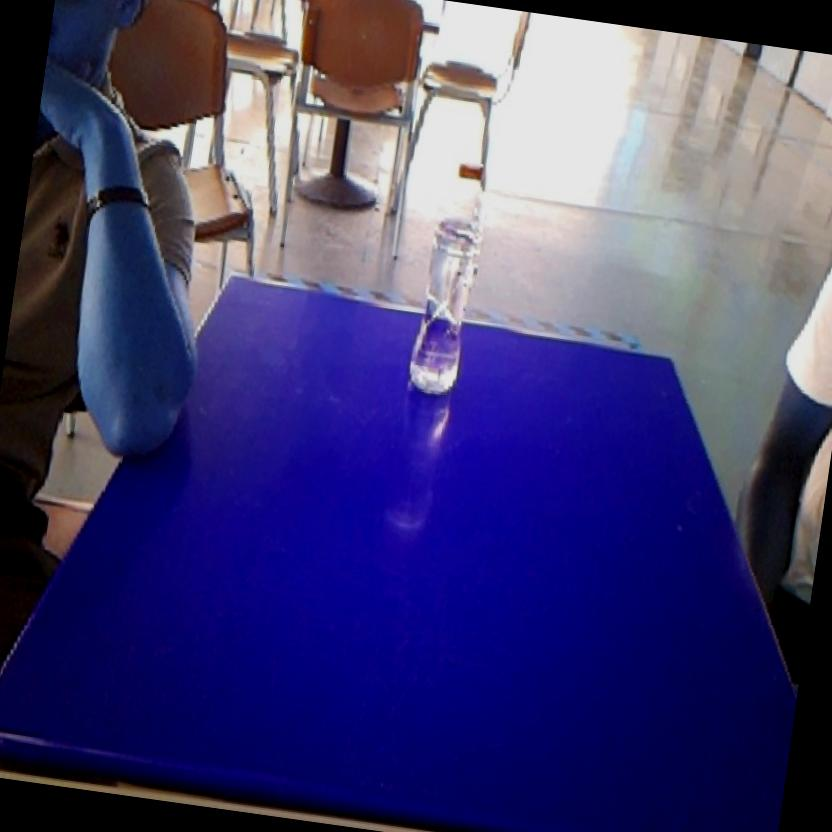no_label: (400, 148, 501, 405)
